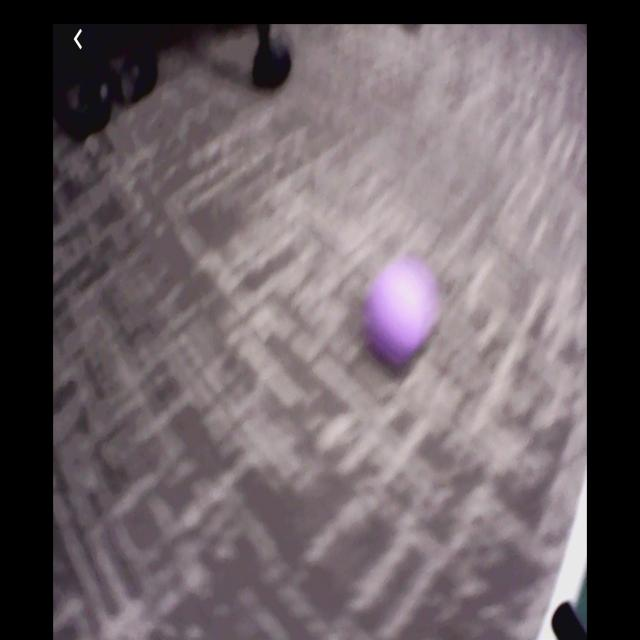ball: (369, 263, 439, 365)
